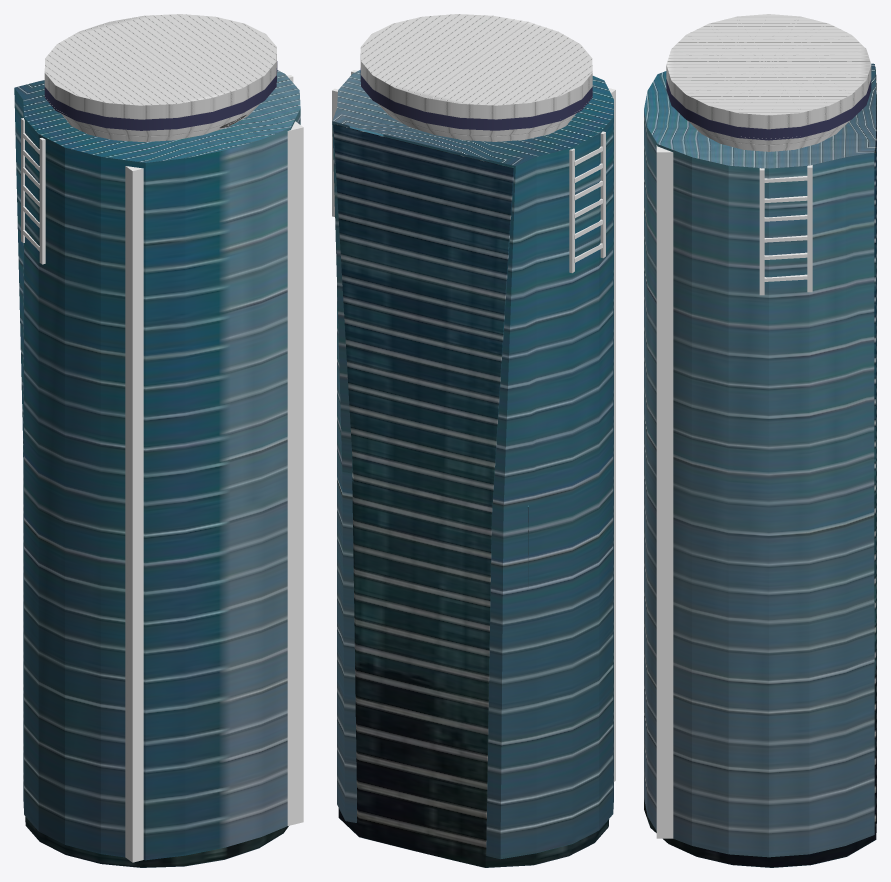
The model's file is business_tower.glb.
3 views of the same model, side by side, from view 1: azimuth 30°, elevation 25°; view 2: azimuth 150°, elevation 25°; view 3: azimuth 270°, elevation 25° (orthographic).
Visible parts, largest first — view 1: Object_4, Object_7, Object_6, Object_5, Object_2, Object_3; view 2: Object_2, Object_4, Object_6, Object_7, Object_5, Object_3; view 3: Object_4, Object_6, Object_7, Object_2, Object_5, Object_3.
Boxes of the visible parts, x1,y1,x2,y2 form: Object_4: (14,70,300,860); Object_7: (21,75,303,862); Object_6: (44,14,276,119); Object_5: (44,61,277,130); Object_2: (25,817,288,867); Object_3: (45,97,259,141); Object_2: (333,123,609,867); Object_4: (332,70,613,859); Object_6: (360,14,592,119); Object_7: (332,70,615,781); Object_5: (360,68,592,130); Object_3: (377,103,586,141); Object_4: (644,63,876,857); Object_6: (666,14,871,129); Object_7: (656,145,812,838); Object_2: (644,67,876,867); Object_5: (666,79,871,140); Object_3: (687,120,849,151).
Size of the model in its own units: 2.78 by 7.94 by 2.25.
Materials: 6 (4 with a texture image).
